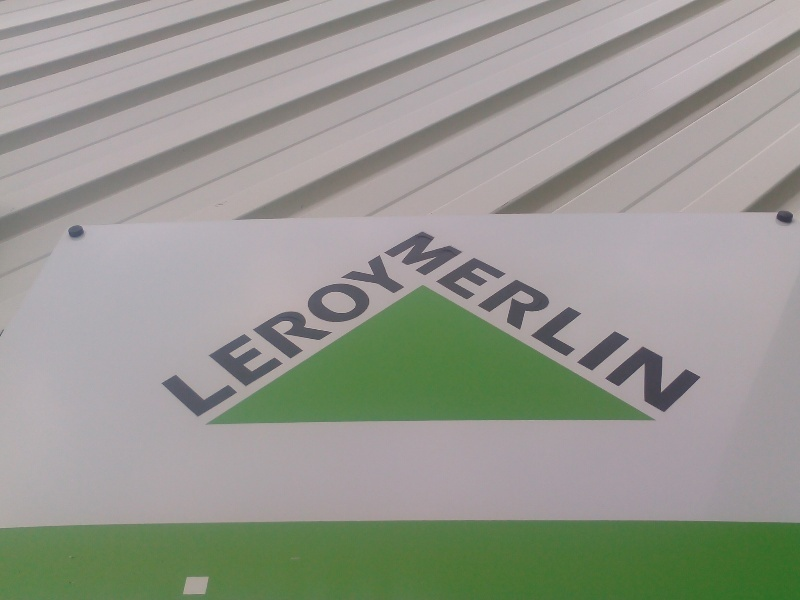text: (433, 231, 448, 414), (449, 231, 464, 414), (465, 231, 480, 414), (481, 231, 496, 414), (497, 231, 512, 414), (513, 231, 528, 414), (529, 231, 544, 414), (545, 231, 560, 414), (561, 231, 576, 414), (577, 231, 592, 414), (593, 231, 608, 414), (609, 231, 624, 414), (625, 231, 640, 414), (641, 231, 656, 414), (657, 231, 672, 414), (673, 231, 688, 414), (689, 231, 704, 414), (161, 255, 176, 419), (177, 255, 192, 419), (193, 255, 208, 419), (209, 255, 224, 419), (225, 255, 240, 419), (241, 255, 256, 419), (257, 255, 272, 419), (273, 255, 288, 419), (289, 255, 304, 419), (305, 255, 320, 419), (321, 255, 336, 419), (337, 255, 352, 419), (353, 255, 368, 419), (369, 255, 384, 419), (385, 255, 400, 419), (423, 231, 432, 414), (401, 255, 409, 419), (157, 255, 160, 419)
